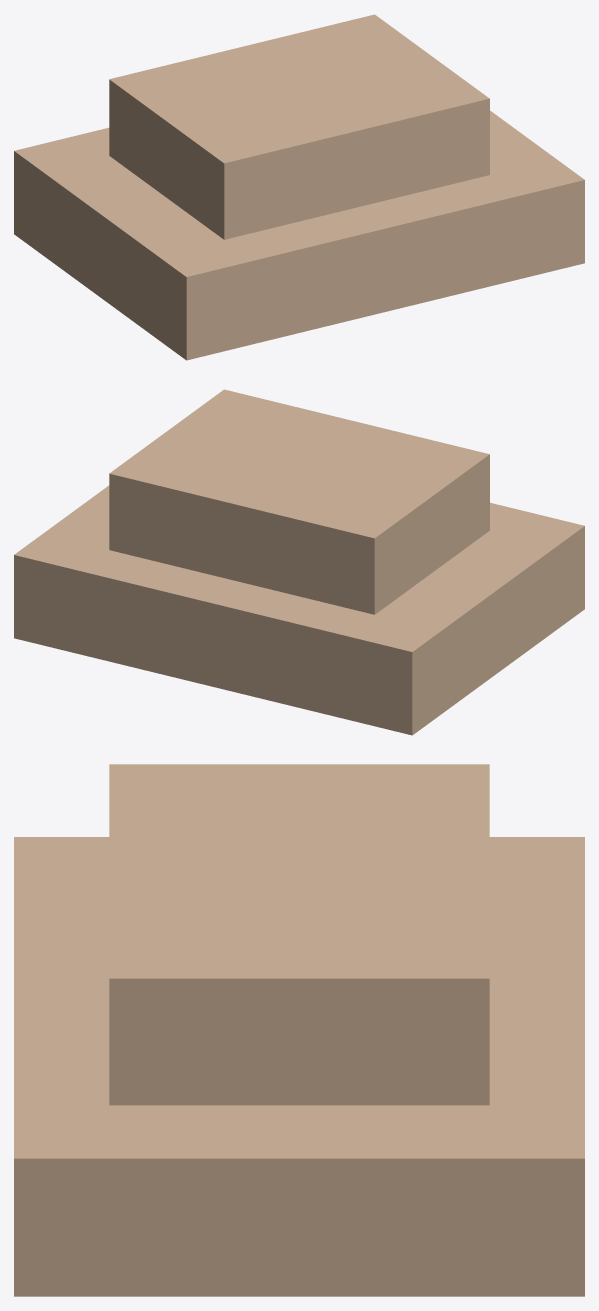
The model's file is ziggurat_s2.glb.
3 views of the same model, one above another, from view 1: azimuth 30°, elevation 25°; view 2: azimuth 150°, elevation 25°; view 3: azimuth 270°, elevation 25° (orthographic). The views are drawn at different scales.
Visible parts, largest first — view 1: ziggurat; view 2: ziggurat; view 3: ziggurat.
Boxes of the visible parts, <box> form: ziggurat: <box>14,14,584,360</box>; ziggurat: <box>14,389,584,735</box>; ziggurat: <box>14,764,584,1296</box>.
Size of the model in its own units: 26.09 by 10 by 19.57.
